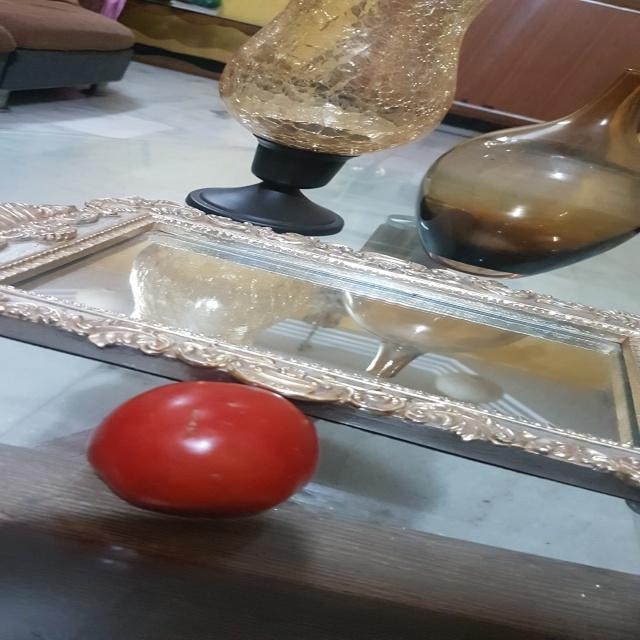tomato: (83, 370, 324, 519)
